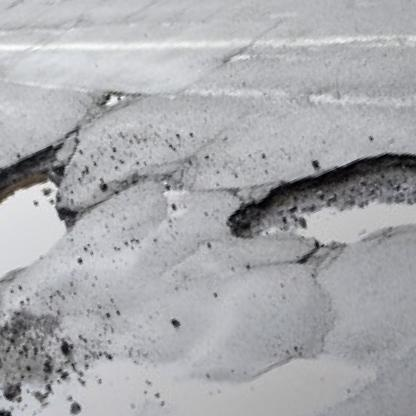pothole: (221, 91, 416, 314), (0, 134, 114, 300), (97, 83, 136, 112)
